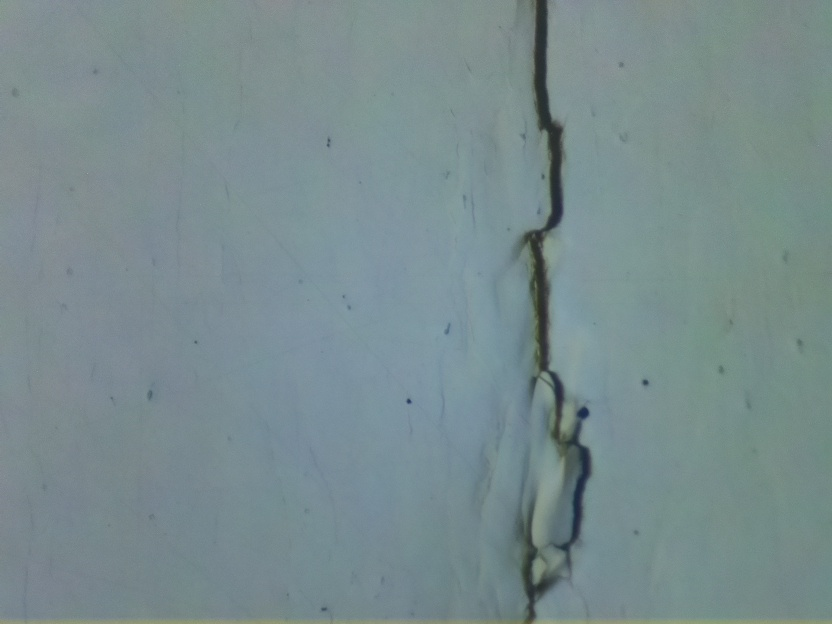crack: (515, 0, 594, 624)
